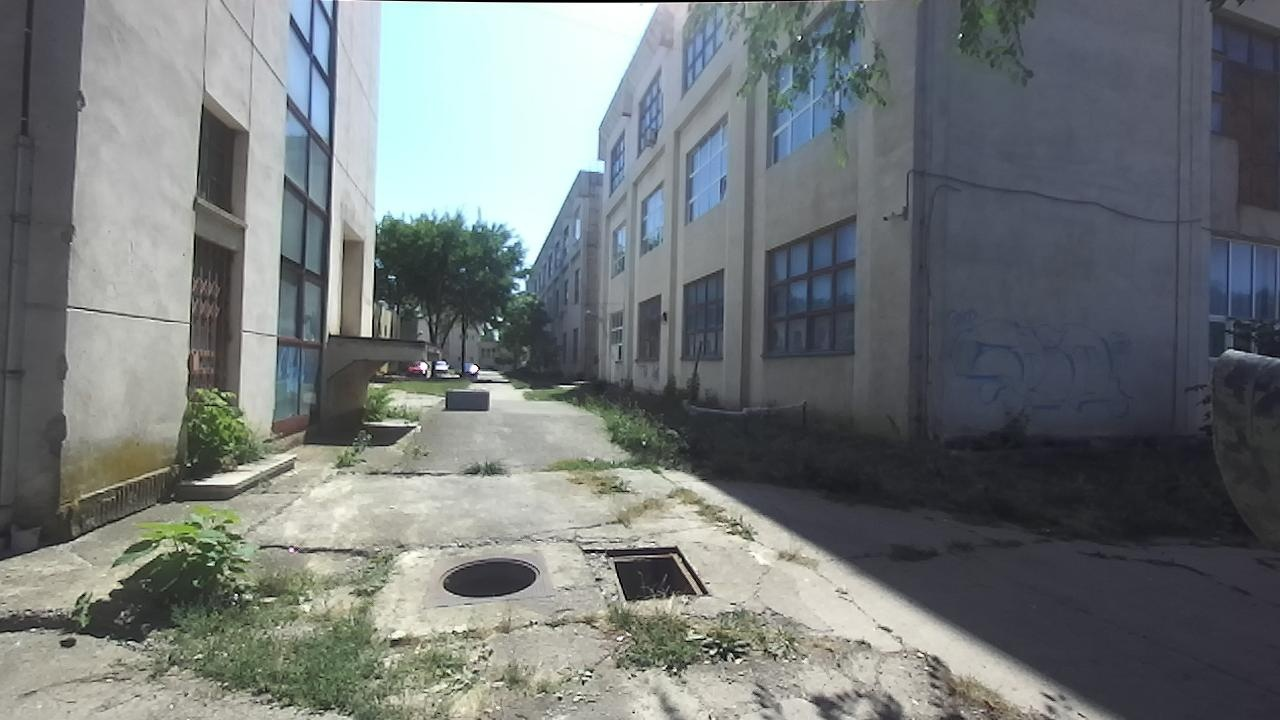drain: (604, 542, 715, 604), (433, 552, 549, 601)
